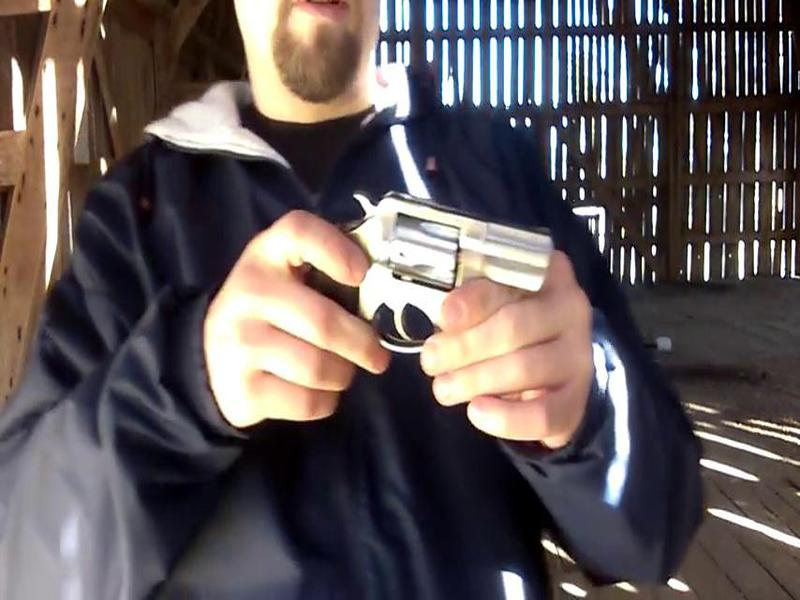Revolver: (291, 160, 582, 380)
